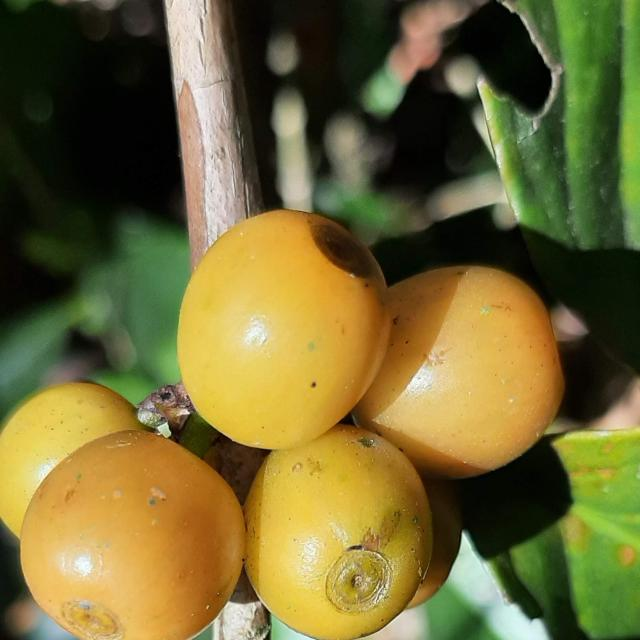Ripe: (177, 210, 390, 450), (20, 431, 245, 640), (353, 266, 565, 479), (245, 425, 433, 640), (0, 383, 146, 538)
